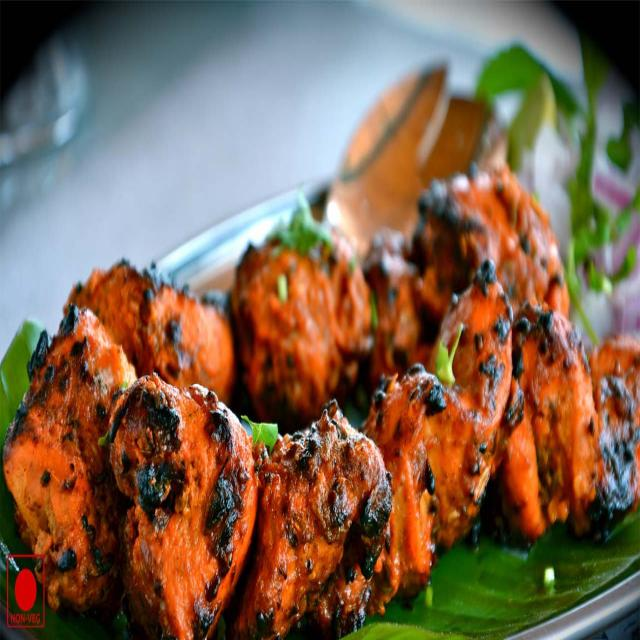Chicken Tikka: (1, 155, 640, 639)
